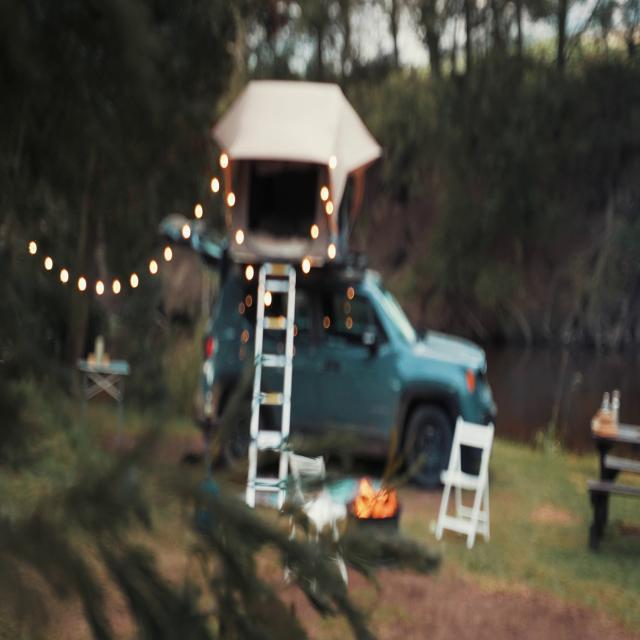Fire: (356, 470, 394, 524)
